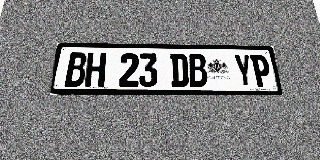2: (119, 53, 139, 87)
3: (139, 53, 157, 87)
B: (64, 52, 87, 87), (188, 54, 208, 87)
D: (170, 53, 189, 87)
H: (85, 52, 106, 87)
P: (250, 54, 273, 87)
Y: (233, 54, 255, 87)
